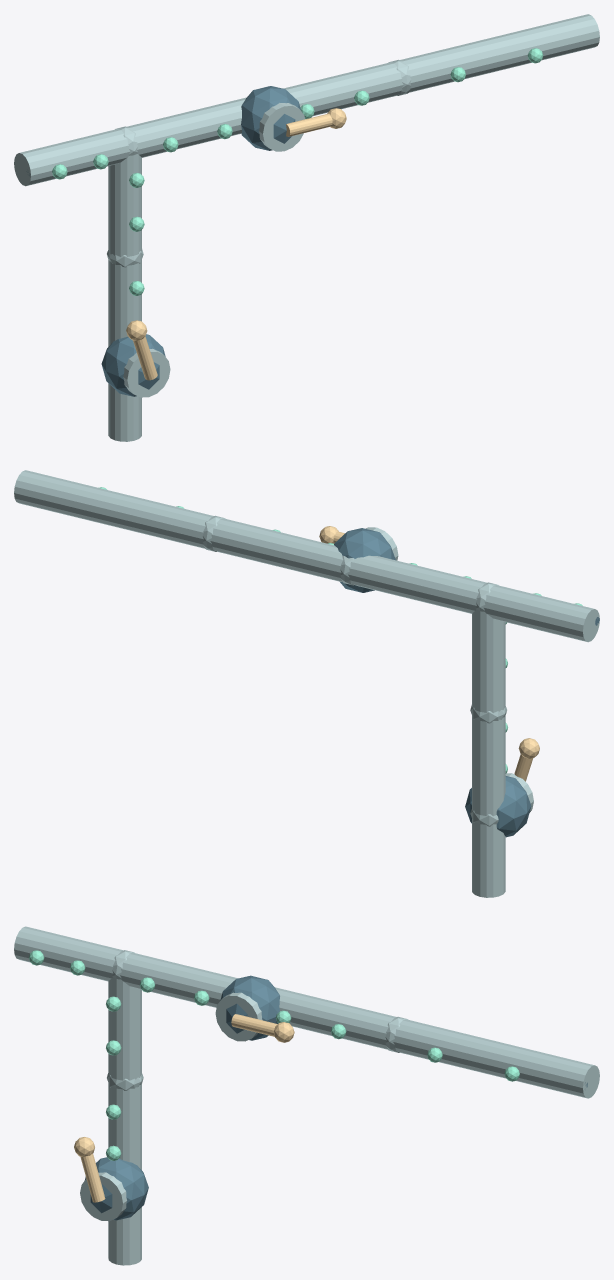
File: air-10-1.glb
The picture shows the model from 3 angles, top to bottom: view 1: azimuth 30°, elevation 25°; view 2: azimuth 150°, elevation 25°; view 3: azimuth 330°, elevation 25°; orthographic projection.
Parts seen in each view (by area): view 1: pipe, dark, flow, handle; view 2: pipe, dark, handle; view 3: pipe, dark, flow, handle.
Part boxes in pixels (left/top/right/bottom): pipe: left=14, top=14, right=599, bottom=441; dark: left=26, top=86, right=300, bottom=396; flow: left=52, top=48, right=543, bottom=295; handle: left=126, top=108, right=346, bottom=380; pipe: left=14, top=470, right=599, bottom=897; dark: left=334, top=528, right=599, bottom=837; handle: left=319, top=526, right=539, bottom=781; pipe: left=14, top=926, right=599, bottom=1265; dark: left=84, top=975, right=587, bottom=1220; flow: left=29, top=950, right=519, bottom=1160; handle: left=74, top=1014, right=294, bottom=1202.
Bounding box in the file's own units: 2.77 × 1.49 × 0.343.
